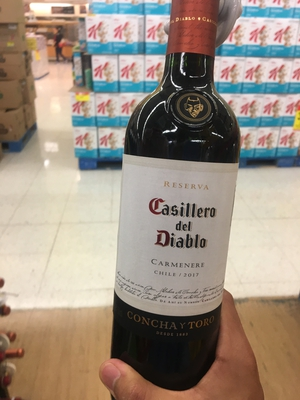casillero del diablo carmenere: (109, 19, 247, 390)
